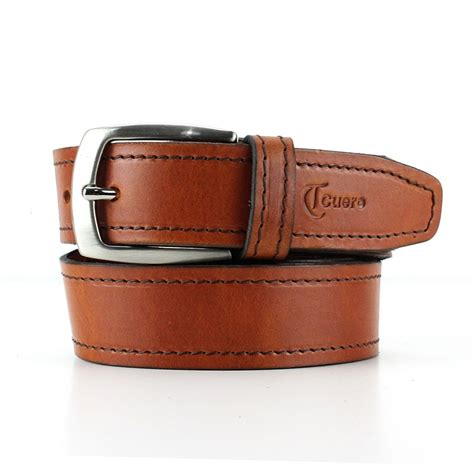cuero: (51, 139, 444, 371)
